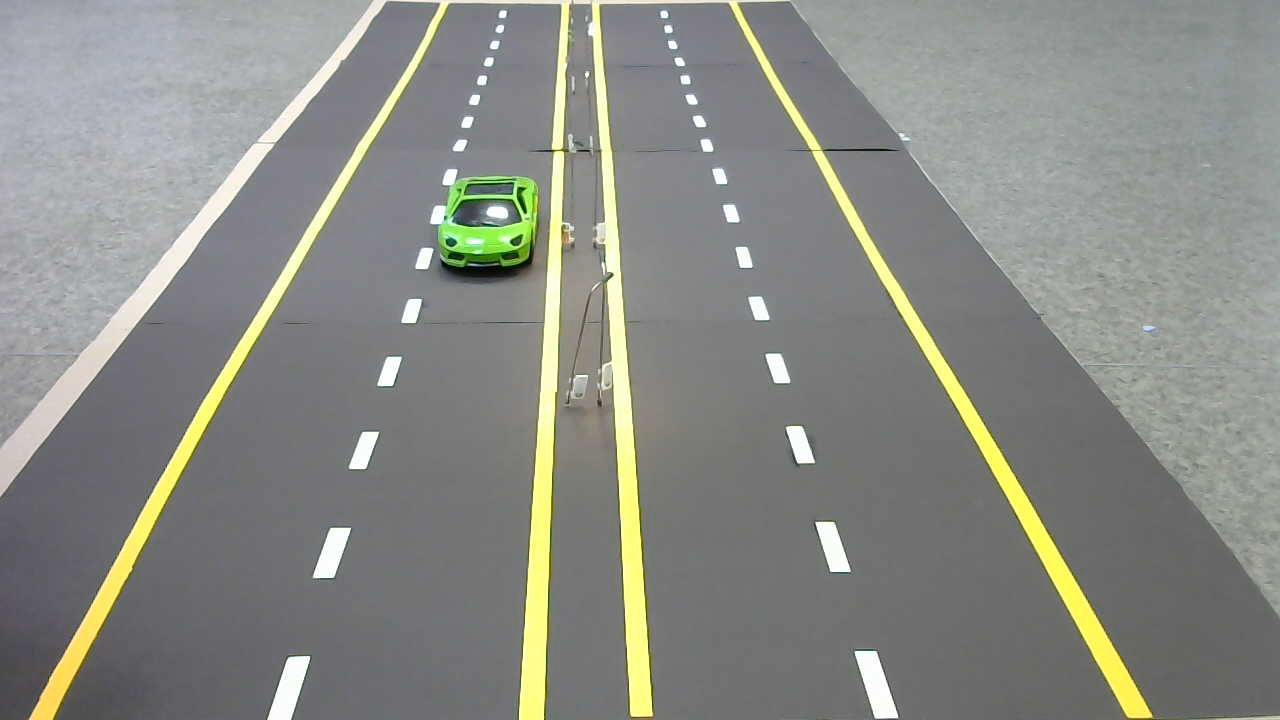front_car: (433, 167, 541, 278)
